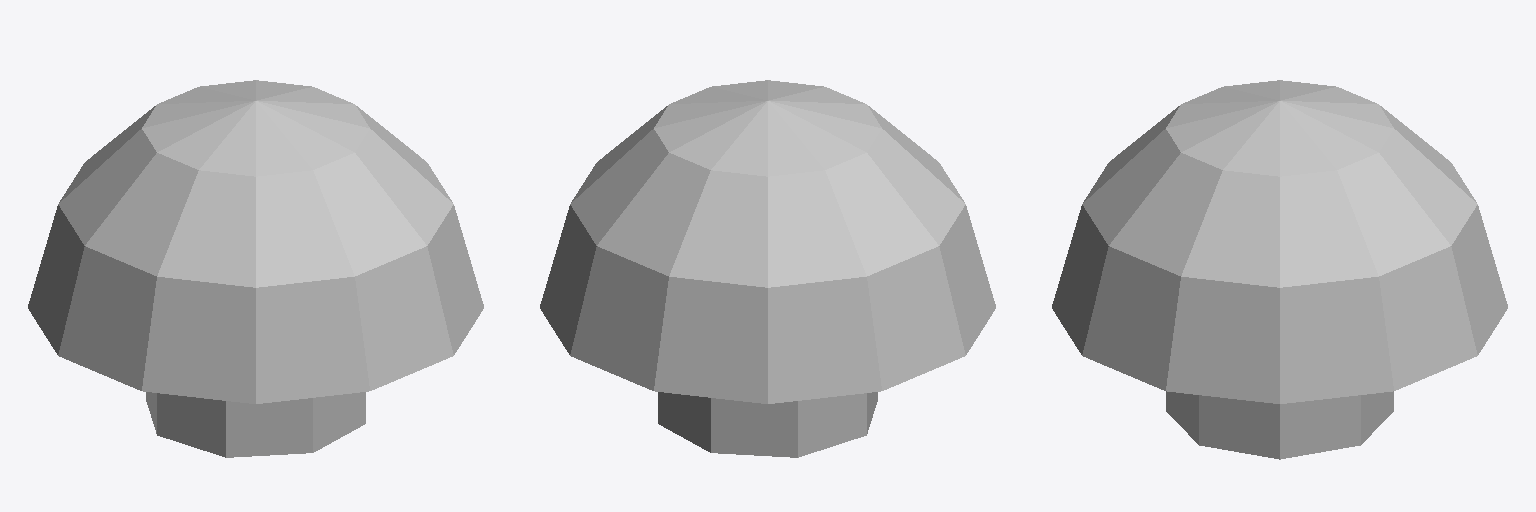
Rendered from mushroomBumper.obj.
3 renders of one model, left to right at view 1: azimuth 30°, elevation 25°; view 2: azimuth 150°, elevation 25°; view 3: azimuth 270°, elevation 25°, orthographic.
Parts seen in each view (by area): view 1: mushroomBumper.obj; view 2: mushroomBumper.obj; view 3: mushroomBumper.obj.
Part boxes in pixels (left/top/right/bottom): mushroomBumper.obj: left=28, top=80, right=483, bottom=457; mushroomBumper.obj: left=540, top=80, right=995, bottom=457; mushroomBumper.obj: left=1052, top=80, right=1507, bottom=459.
Size of the model in its own units: 0.4 by 0.3 by 0.4.